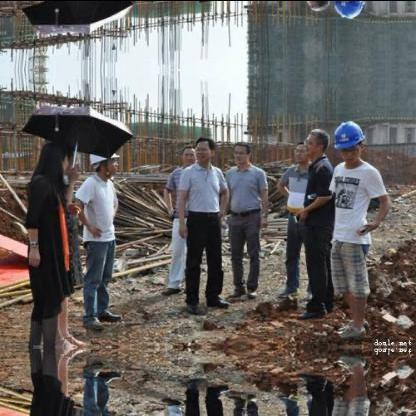Helmet: (329, 116, 367, 162), (88, 141, 119, 176), (328, 0, 368, 20)
No Helmet: (36, 140, 72, 176), (302, 124, 330, 158), (192, 134, 216, 164), (230, 139, 248, 167), (301, 0, 331, 13), (290, 139, 306, 163), (180, 143, 194, 165)
